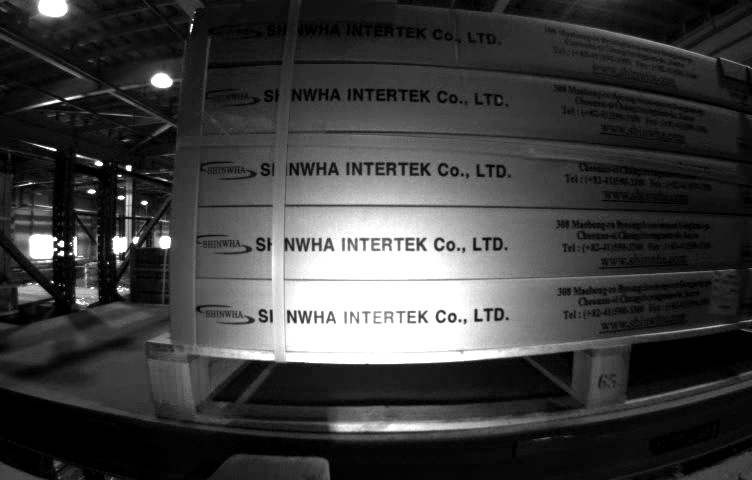True Barcode: (708, 270, 739, 321)
